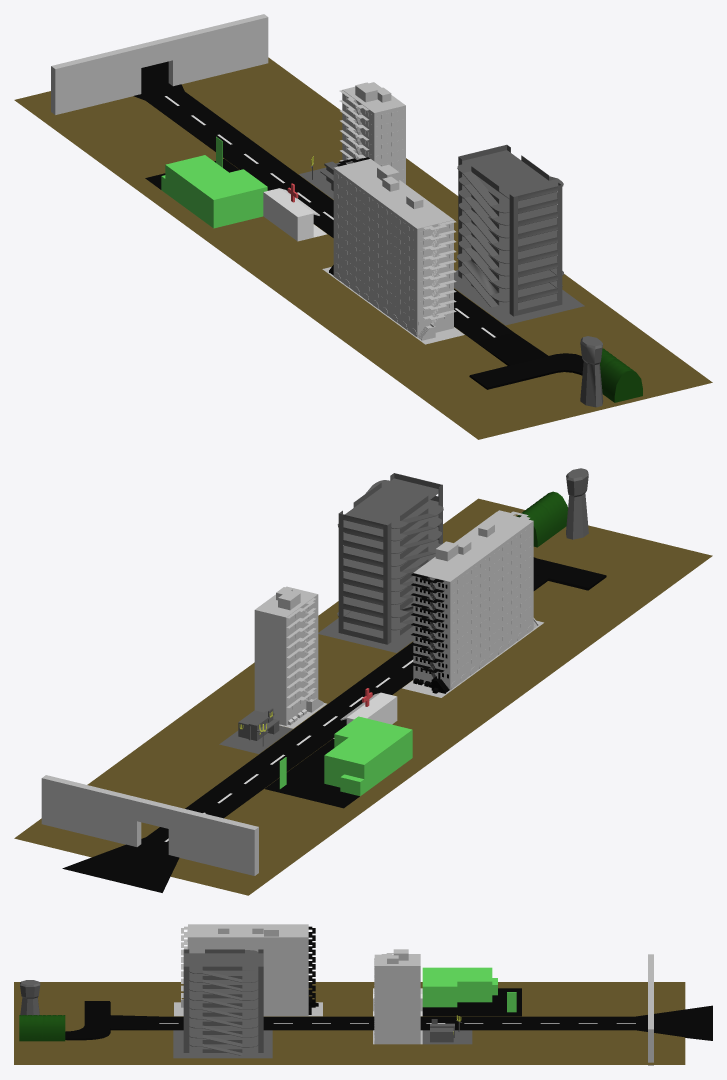
File: MainMenu.glb
3 renders of one model, top to bottom at view 1: azimuth 30°, elevation 25°; view 2: azimuth 150°, elevation 25°; view 3: azimuth 270°, elevation 25°, orthographic. The views are drawn at different scales.
Parts seen in each view (by area): view 1: 3x2_Runway.col, 3x1_Apartments.col, 2x2_ParkingGarage.col, Cube, Plane, 2x2_Supermarket.col, 1x1_Apartments.col, 3x2_Runway.col.002, 1x1_Hospital.col.001, 3x2_Runway.col.003, 3x2_Runway.col.001, 1x1_Waccas.col; view 2: 3x2_Runway.col, 2x2_ParkingGarage.col, 3x1_Apartments.col, Plane, Cube, 1x1_Apartments.col, 2x2_Supermarket.col, 3x1_Apartments.col.002, 2x2_Supermarket.col.001, 3x1_Apartments.col.001, 1x1_Waccas.col, 3x2_Runway.col.003 (+4 smaller); view 3: 3x2_Runway.col, 2x2_ParkingGarage.col, Plane, 3x1_Apartments.col, 1x1_Apartments.col, 2x2_Supermarket.col, 2x2_Supermarket.col.001, 3x2_Runway.col.003, 3x2_Runway.col.002, 1x1_Waccas.col, Cube, 3x2_Runway.col.001 (+1 smaller).
Boxes of the visible parts, box(x1,y1,x2,y2) form: 3x2_Runway.col: box(14, 57, 712, 439); 3x1_Apartments.col: box(322, 159, 464, 344); 2x2_ParkingGarage.col: box(454, 144, 584, 325); Cube: box(51, 14, 268, 114); Plane: box(133, 61, 548, 365); 2x2_Supermarket.col: box(161, 136, 267, 228); 1x1_Apartments.col: box(339, 82, 405, 184); 3x2_Runway.col.002: box(469, 353, 583, 389); 1x1_Hospital.col.001: box(263, 188, 326, 241); 3x2_Runway.col.003: box(600, 348, 642, 402); 3x2_Runway.col.001: box(580, 336, 603, 407); 1x1_Waccas.col: box(299, 161, 340, 199); 3x2_Runway.col: box(14, 498, 712, 895); 2x2_ParkingGarage.col: box(318, 473, 443, 652); 3x1_Apartments.col: box(402, 510, 543, 697); Plane: box(62, 575, 548, 892); Cube: box(41, 775, 258, 875); 1x1_Apartments.col: box(254, 586, 326, 728); 2x2_Supermarket.col: box(279, 716, 412, 796); 3x1_Apartments.col.002: box(413, 573, 450, 689); 2x2_Supermarket.col.001: box(265, 738, 359, 808); 3x1_Apartments.col.001: box(411, 573, 449, 693); 1x1_Waccas.col: box(219, 708, 292, 753); 3x2_Runway.col.003: box(516, 491, 567, 547); 3x2_Runway.col: box(14, 982, 685, 1064); 2x2_ParkingGarage.col: box(173, 949, 272, 1058); Plane: box(110, 1005, 712, 1040); 3x1_Apartments.col: box(174, 924, 322, 1016); 1x1_Apartments.col: box(373, 949, 422, 1044); 2x2_Supermarket.col: box(422, 967, 516, 1012); 2x2_Supermarket.col.001: box(422, 988, 521, 1016); 3x2_Runway.col.003: box(19, 1015, 65, 1041); 3x2_Runway.col.002: box(65, 1001, 110, 1040); 1x1_Waccas.col: box(422, 1019, 472, 1044); Cube: box(648, 954, 653, 1065); 3x2_Runway.col.001: box(20, 980, 40, 1015).
Bounding box in the file's own units: 78.82 × 39.7 × 281.
